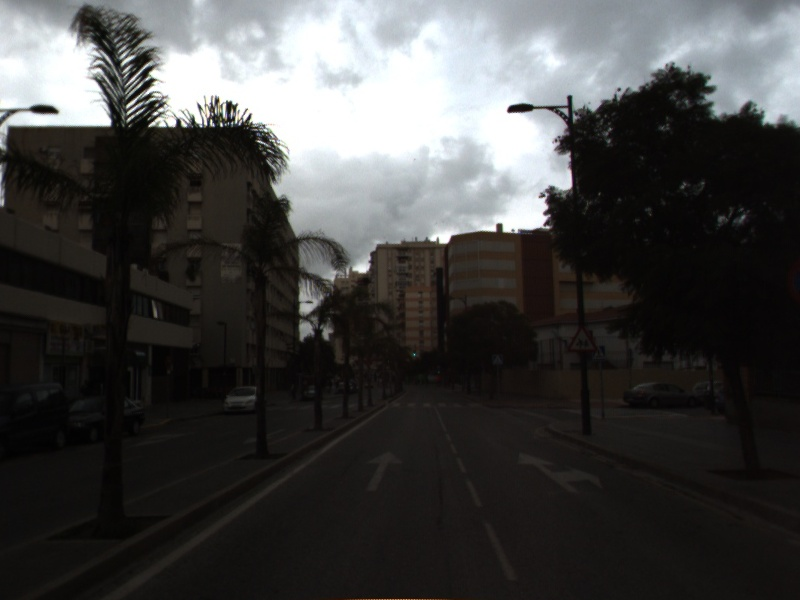STRAIGHT: (363, 448, 406, 493)
STRAIGHT_RIGHT: (515, 449, 606, 495)
